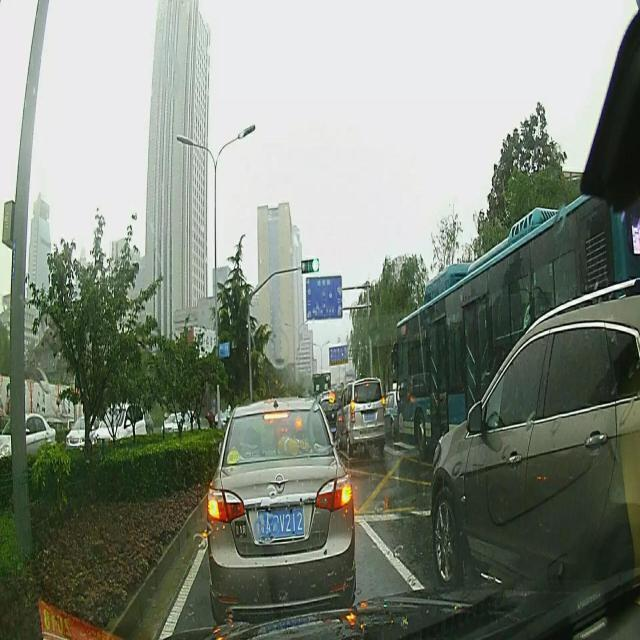car: (432, 276, 640, 602), (206, 396, 356, 616), (336, 378, 384, 455)
